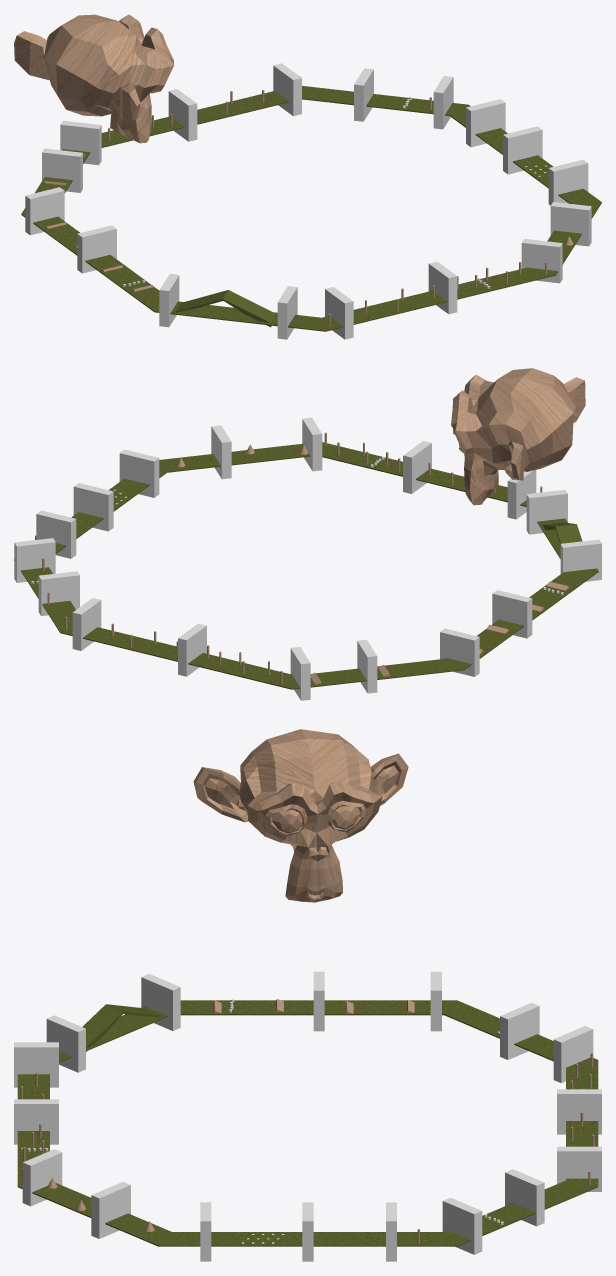
The model's file is Spungilious Speedway.glb.
The picture shows the model from 3 angles, top to bottom: view 1: azimuth 30°, elevation 25°; view 2: azimuth 150°, elevation 25°; view 3: azimuth 270°, elevation 25°; orthographic projection. The views are drawn at different scales.
Visible parts, largest first — view 1: Track.1, Misc.0, Checkpoint.3, Dropoff.7, Checkpoint.7, Checkpoint.0, Dropoff.0, Dropoff.3, Dropoff.4, Checkpoint.4, Dropoff.8, Dropoff.2 (+9 smaller); view 2: Track.1, Misc.0, Dropoff.5, Dropoff.8, Checkpoint.0, Dropoff.4, Checkpoint.4, Checkpoint.1, Dropoff.1, Dropoff.0, Checkpoint.5, Checkpoint.2 (+7 smaller); view 3: Misc.0, Track.1, Checkpoint.6, Checkpoint.1, Dropoff.3, Dropoff.7, Dropoff.6, Dropoff.2, Checkpoint.5, Checkpoint.7, Checkpoint.2, Dropoff.1 (+7 smaller).
Boxes of the visible parts, left/top/right/bottom form: Track.1: left=21, top=86, right=601, bottom=331; Misc.0: left=14, top=14, right=174, bottom=143; Checkpoint.3: left=60, top=120, right=101, bottom=165; Dropoff.7: left=550, top=202, right=591, bottom=246; Checkpoint.7: left=521, top=238, right=562, bottom=283; Checkpoint.0: left=503, top=126, right=542, bottom=174; Dropoff.0: left=466, top=99, right=505, bottom=147; Dropoff.3: left=42, top=148, right=82, bottom=192; Dropoff.4: left=77, top=225, right=116, bottom=273; Checkpoint.4: left=25, top=187, right=64, bottom=235; Dropoff.8: left=548, top=159, right=588, bottom=205; Dropoff.2: left=168, top=89, right=197, bottom=141; Track.1: left=14, top=442, right=598, bottom=689; Misc.0: left=451, top=368, right=585, bottom=505; Dropoff.5: left=526, top=490, right=567, bottom=534; Dropoff.8: left=119, top=449, right=159, bottom=497; Checkpoint.0: left=73, top=483, right=113, bottom=531; Dropoff.4: left=492, top=590, right=532, bottom=638; Checkpoint.4: left=440, top=628, right=479, bottom=676; Checkpoint.1: left=14, top=538, right=55, bottom=582; Dropoff.1: left=38, top=571, right=79, bottom=615; Dropoff.0: left=36, top=510, right=76, bottom=558; Checkpoint.5: left=560, top=539, right=601, bottom=581; Checkpoint.2: left=72, top=598, right=101, bottom=650; Misc.0: left=193, top=729, right=408, bottom=902; Track.1: left=17, top=1000, right=598, bottom=1246; Checkpoint.6: left=14, top=1042, right=58, bottom=1087; Checkpoint.1: left=442, top=1197, right=482, bottom=1254; Dropoff.3: left=500, top=1002, right=539, bottom=1059; Dropoff.7: left=91, top=1182, right=130, bottom=1238; Dropoff.6: left=14, top=1099, right=58, bottom=1144; Dropoff.2: left=557, top=1089, right=601, bottom=1134; Checkpoint.5: left=141, top=974, right=180, bottom=1030; Checkpoint.7: left=22, top=1149, right=62, bottom=1206; Checkpoint.2: left=557, top=1146, right=601, bottom=1191; Dropoff.1: left=505, top=1169, right=544, bottom=1226.
Size of the model in its own units: 509 by 249 by 472.
4 materials, 4 textured.
